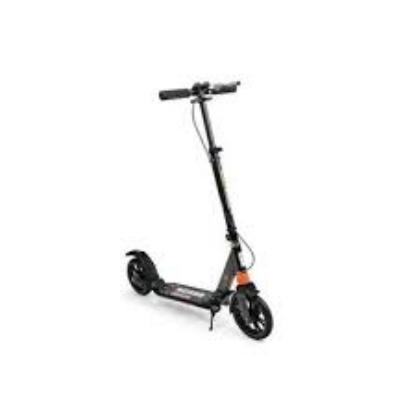bike: (124, 82, 273, 341), (125, 235, 274, 341)
